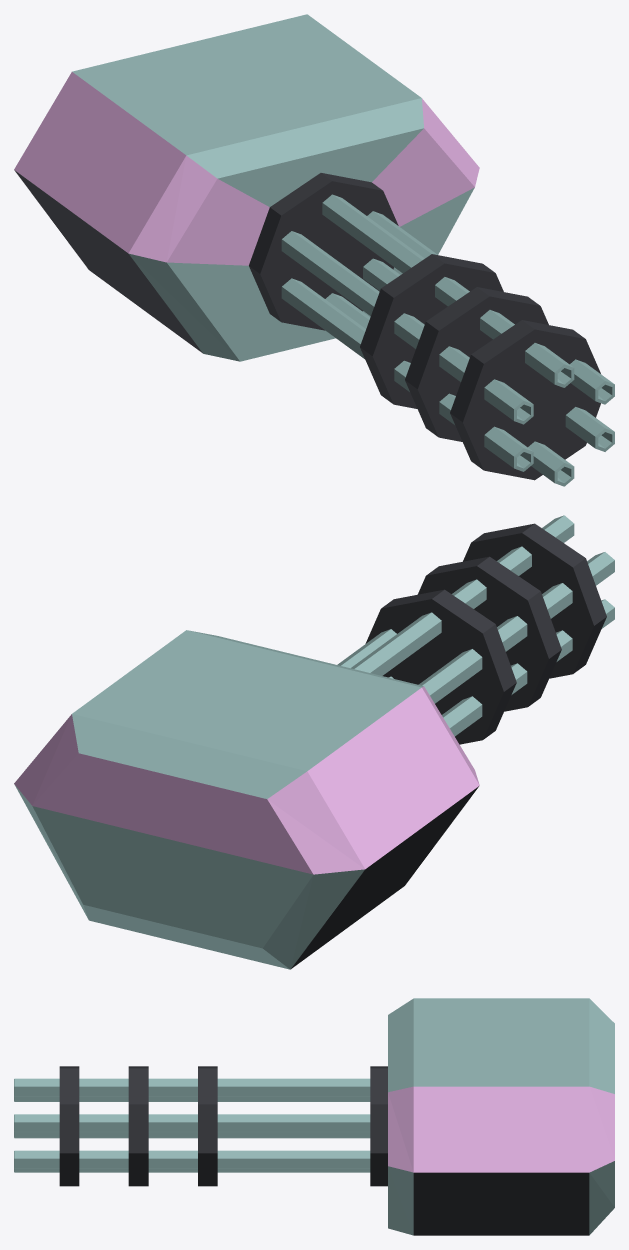
The model's file is UntexturedMiniGunTurret.fbx.
3 renders of one model, top to bottom at view 1: azimuth 30°, elevation 25°; view 2: azimuth 150°, elevation 25°; view 3: azimuth 270°, elevation 25°, orthographic. The views are drawn at different scales.
Visible parts, largest first — view 1: Mingun1; view 2: Mingun1; view 3: Mingun1.
Boxes of the visible parts, left/top/right/bottom form: Mingun1: left=14, top=14, right=614, bottom=486; Mingun1: left=14, top=515, right=614, bottom=969; Mingun1: left=14, top=998, right=614, bottom=1235.
Size of the model in its own units: 432 by 238 by 834.
